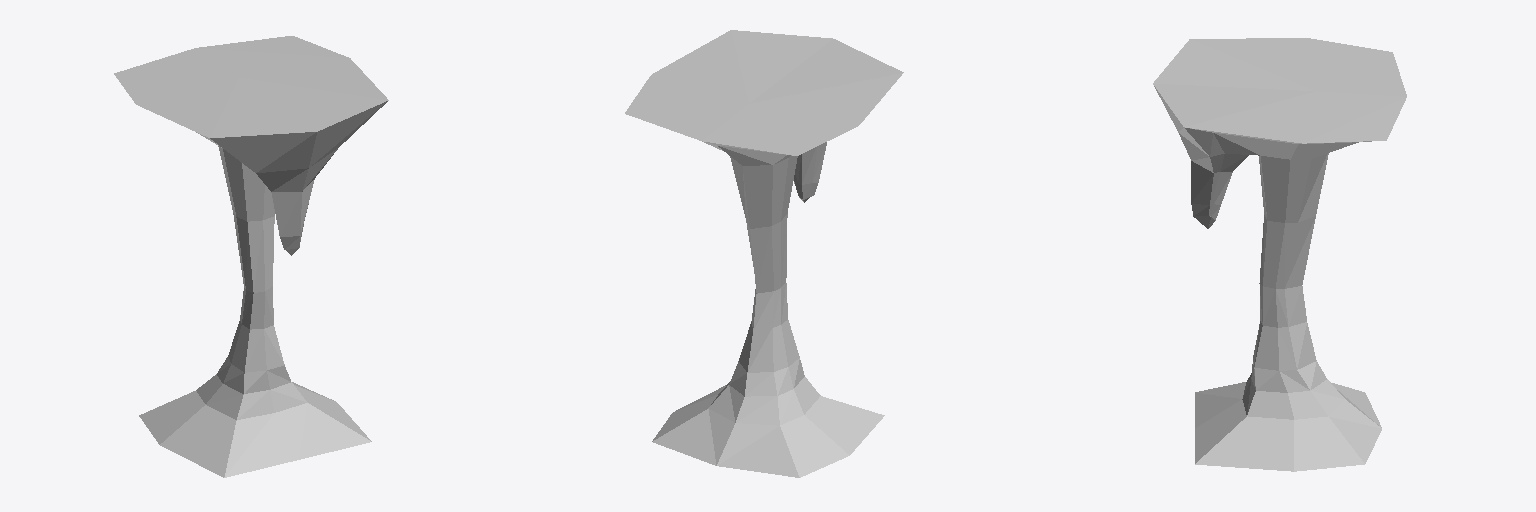
The model's file is NeanderrockPillar1.obj.
3 views of the same model, side by side, from view 1: azimuth 30°, elevation 25°; view 2: azimuth 150°, elevation 25°; view 3: azimuth 270°, elevation 25° (orthographic).
Visible parts, largest first — view 1: pCube1; view 2: pCube1; view 3: pCube1.
Boxes of the visible parts, x1=… form: pCube1: x1=114, y1=36, x2=388, y2=477; pCube1: x1=625, y1=30, x2=903, y2=477; pCube1: x1=1153, y1=38, x2=1406, y2=471.
Bounding box in the file's own units: 6.73 × 10.53 × 7.03.